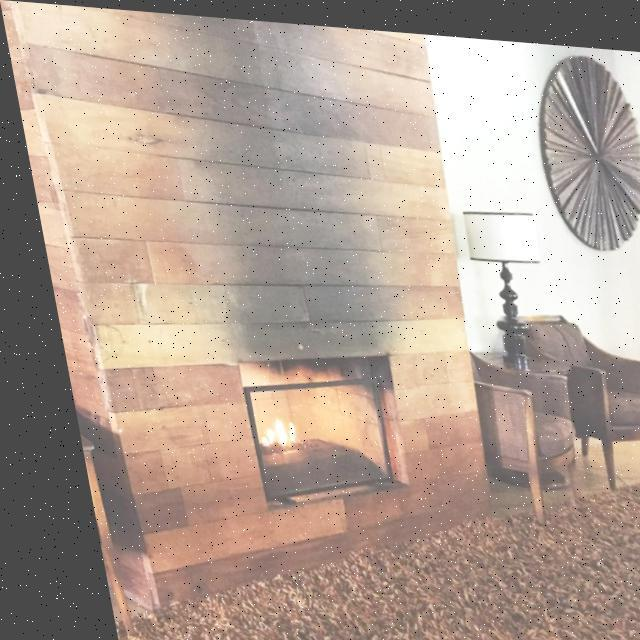Fire: (236, 399, 281, 452)
